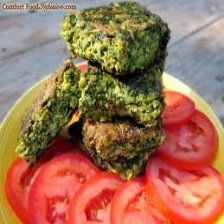sabzi: (13, 0, 169, 174)
